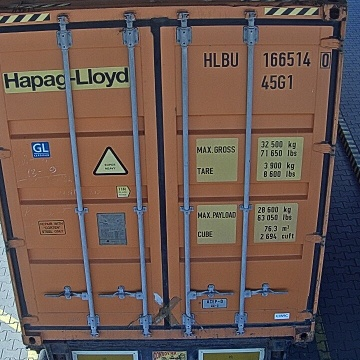serial_id: (204, 51, 331, 67)
